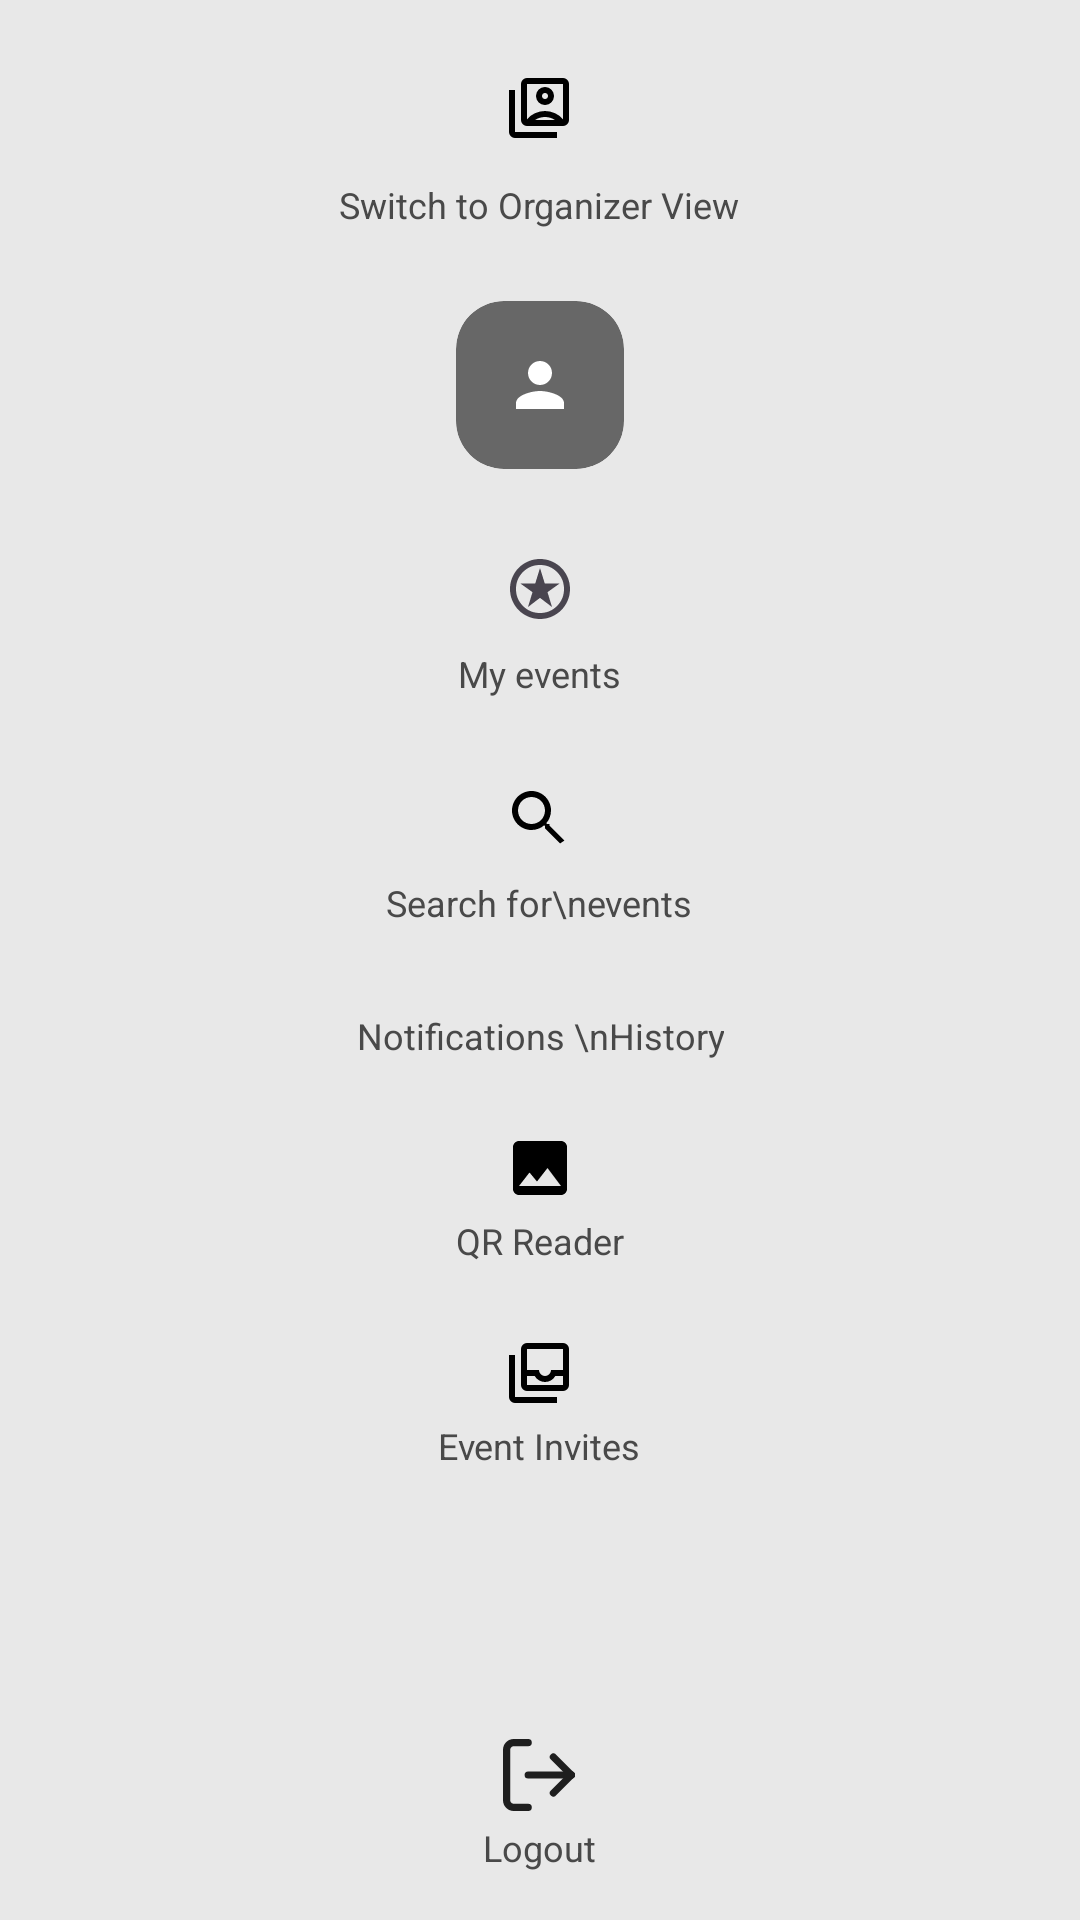

Icon bounding boxes for this 1080px x 1920px phone screenshot, format (x1, y1, x2, y2):
person: (516, 361, 564, 409)
star: (510, 559, 570, 619)
switch account: (509, 78, 569, 138)
